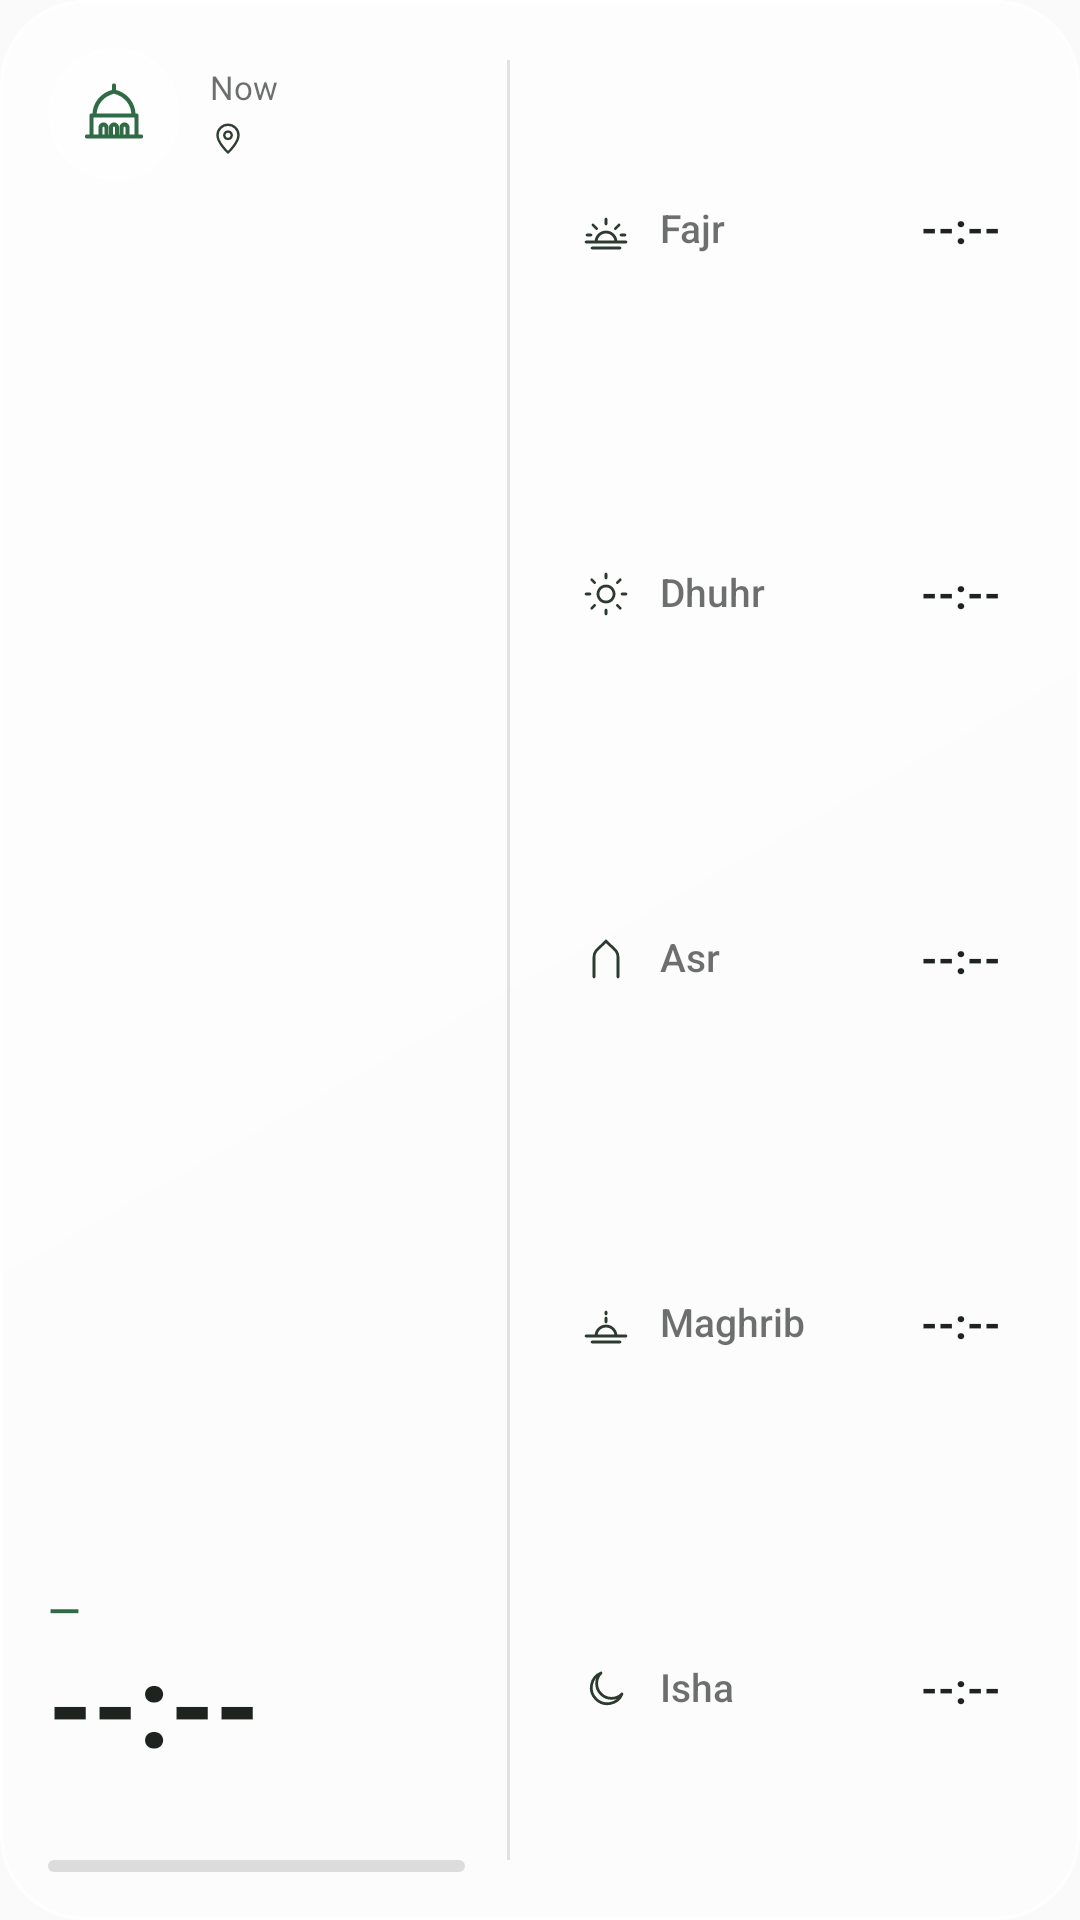

Icons on this 1080*1920 Android screen, each with the point to tap as point (x, y):
ashar: point (606, 959)
dzuhur: point (606, 594)
isya: point (606, 1688)
mosque: point (114, 111)
pin: point (228, 138)
subuh: point (606, 233)
